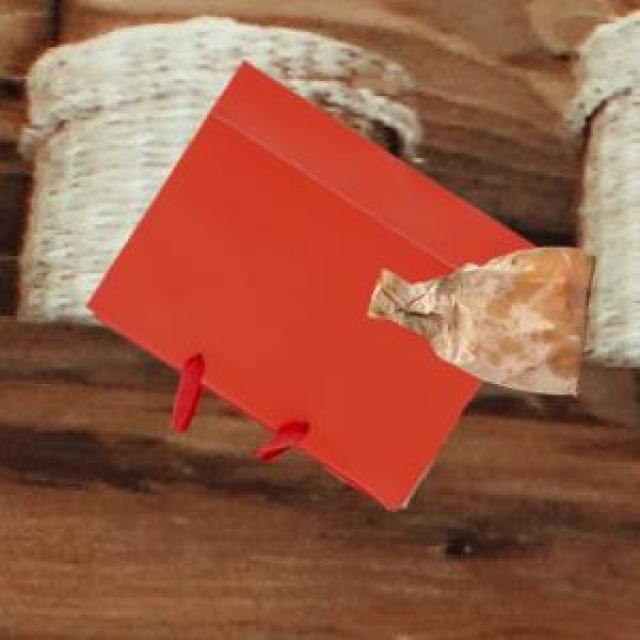paper: (83, 58, 533, 506), (365, 243, 592, 390)
